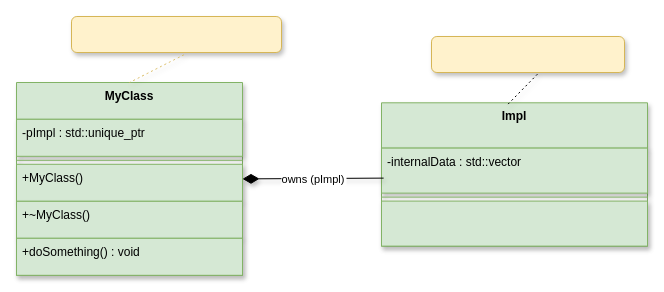
This 664x292 diagram has some shape labels left out. The shapes that lost their labels are listed below. From the top down, each one's centre as x and y in pixels, then its label:
the point at 177,36: Declared in: MyClass.h Impl is only forward-declared here.
the point at 528,56: Defined in: MyClass.cpp (Represents MyClass::Impl)
the point at 515,224: -internalLogic() : void
